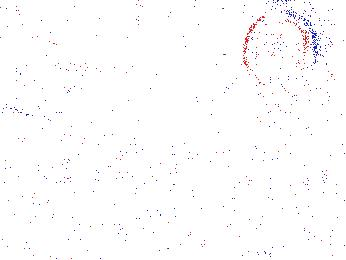moon jellyfish: (227, 66, 300, 150), (243, 12, 317, 93), (1, 64, 92, 119), (107, 13, 210, 54)
